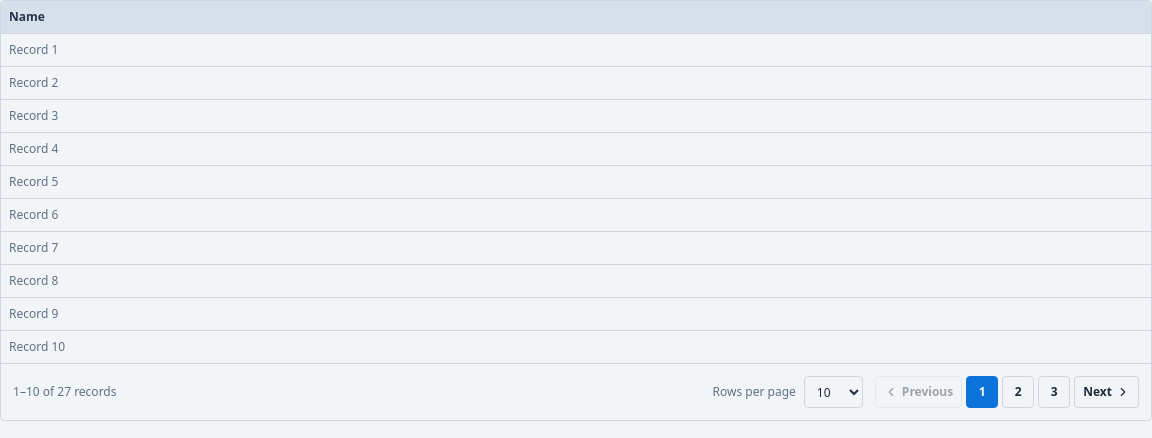
Scenario: DataTable pagination › paginates records with ranges, page numbers, and previous/next navigation
Expected: the text "1–10 of 27 records" is shown, left=13, top=384, right=116, bottom=400
Expected: the text "Record 1" is shown, left=1, top=34, right=1151, bottom=66
Click the button named "Page 2": (1018, 392) left=1002, top=376, right=1034, bottom=408
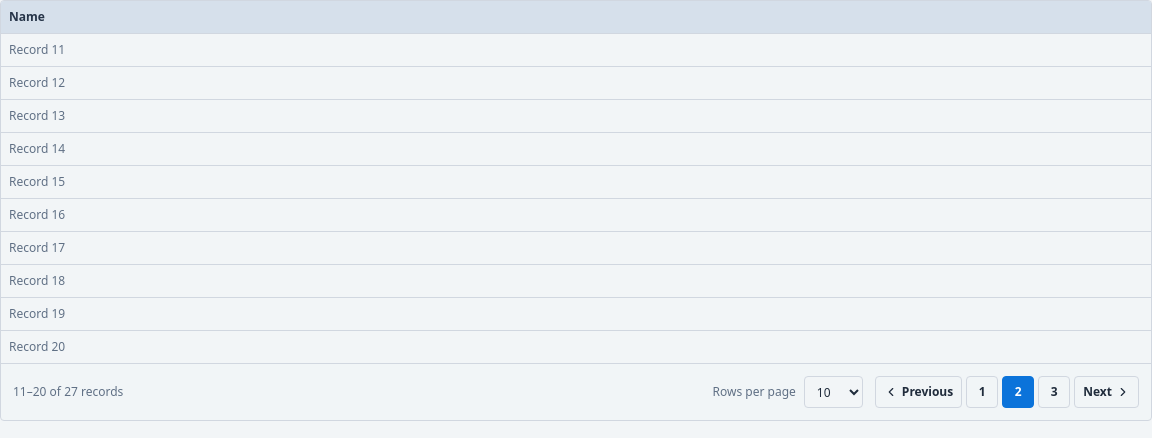
Expected: the text "11–20 of 27 records" is shown, left=13, top=384, right=123, bottom=400
Expected: the text "Record 11" is shown, left=1, top=34, right=1151, bottom=66
Click the button "Next": (1107, 392) left=1074, top=376, right=1139, bottom=408
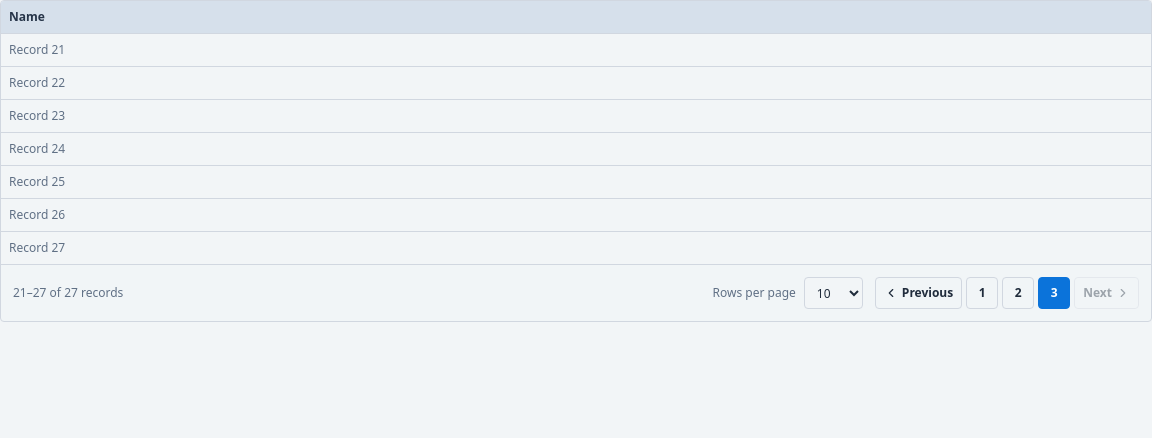
Expected: the text "21–27 of 27 records" is shown, left=13, top=285, right=123, bottom=301
Click the button "Previous": (919, 293) left=875, top=277, right=962, bottom=309
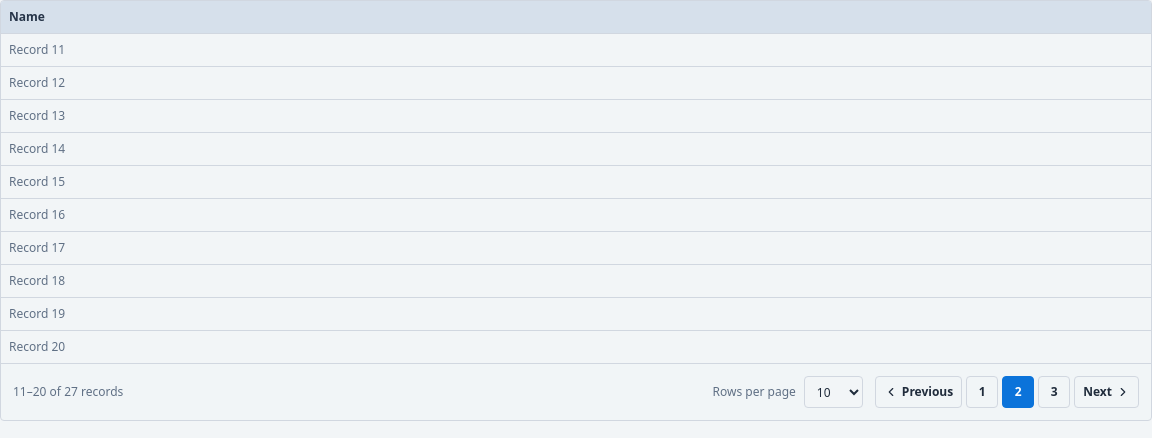
Expected: the text "11–20 of 27 records" is shown, left=13, top=384, right=123, bottom=400
